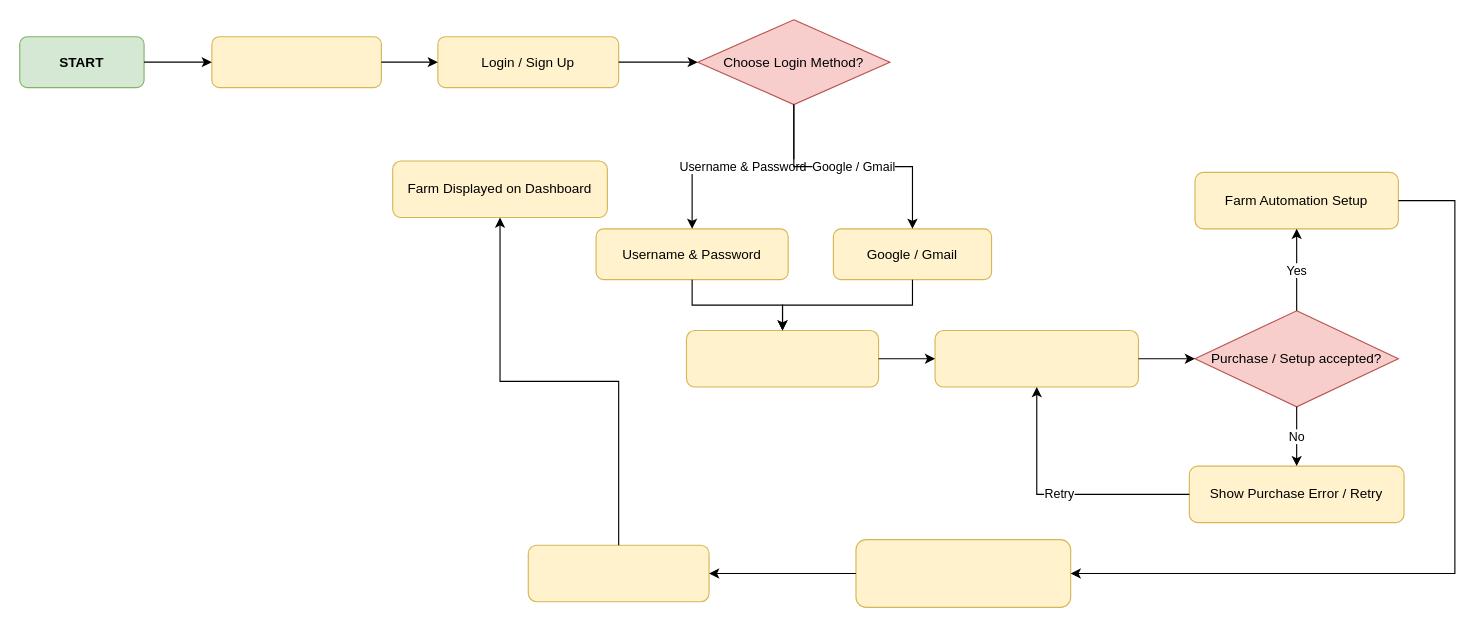
Image size: 1484x627. Some labels were removed from this diagram. Here are the shapes that lost their labels. From the top down, the box of each, then its label:
(211, 36, 381, 88): Launch App
(685, 329, 879, 387): User Authentication
(934, 329, 1138, 387): Browse / Buy Product
(527, 544, 709, 602): Save Farm Details
(855, 538, 1071, 607): Enter Farm Details Farm Name / Place / Farm Type
